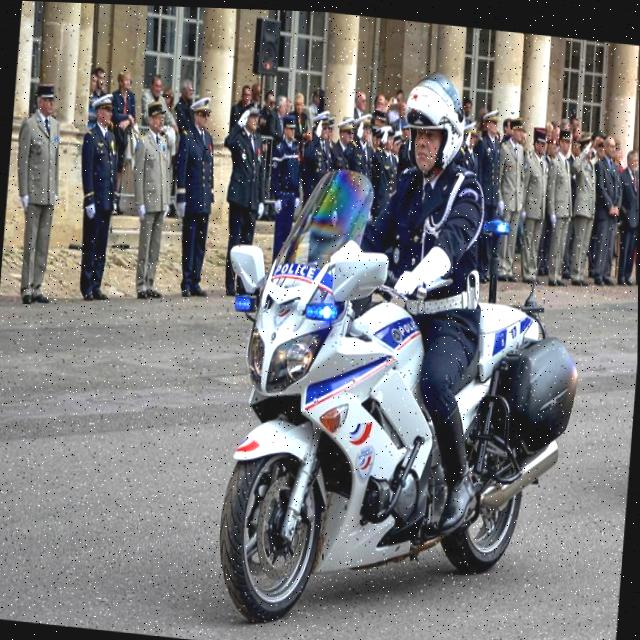motorcycle: (199, 148, 579, 640)
